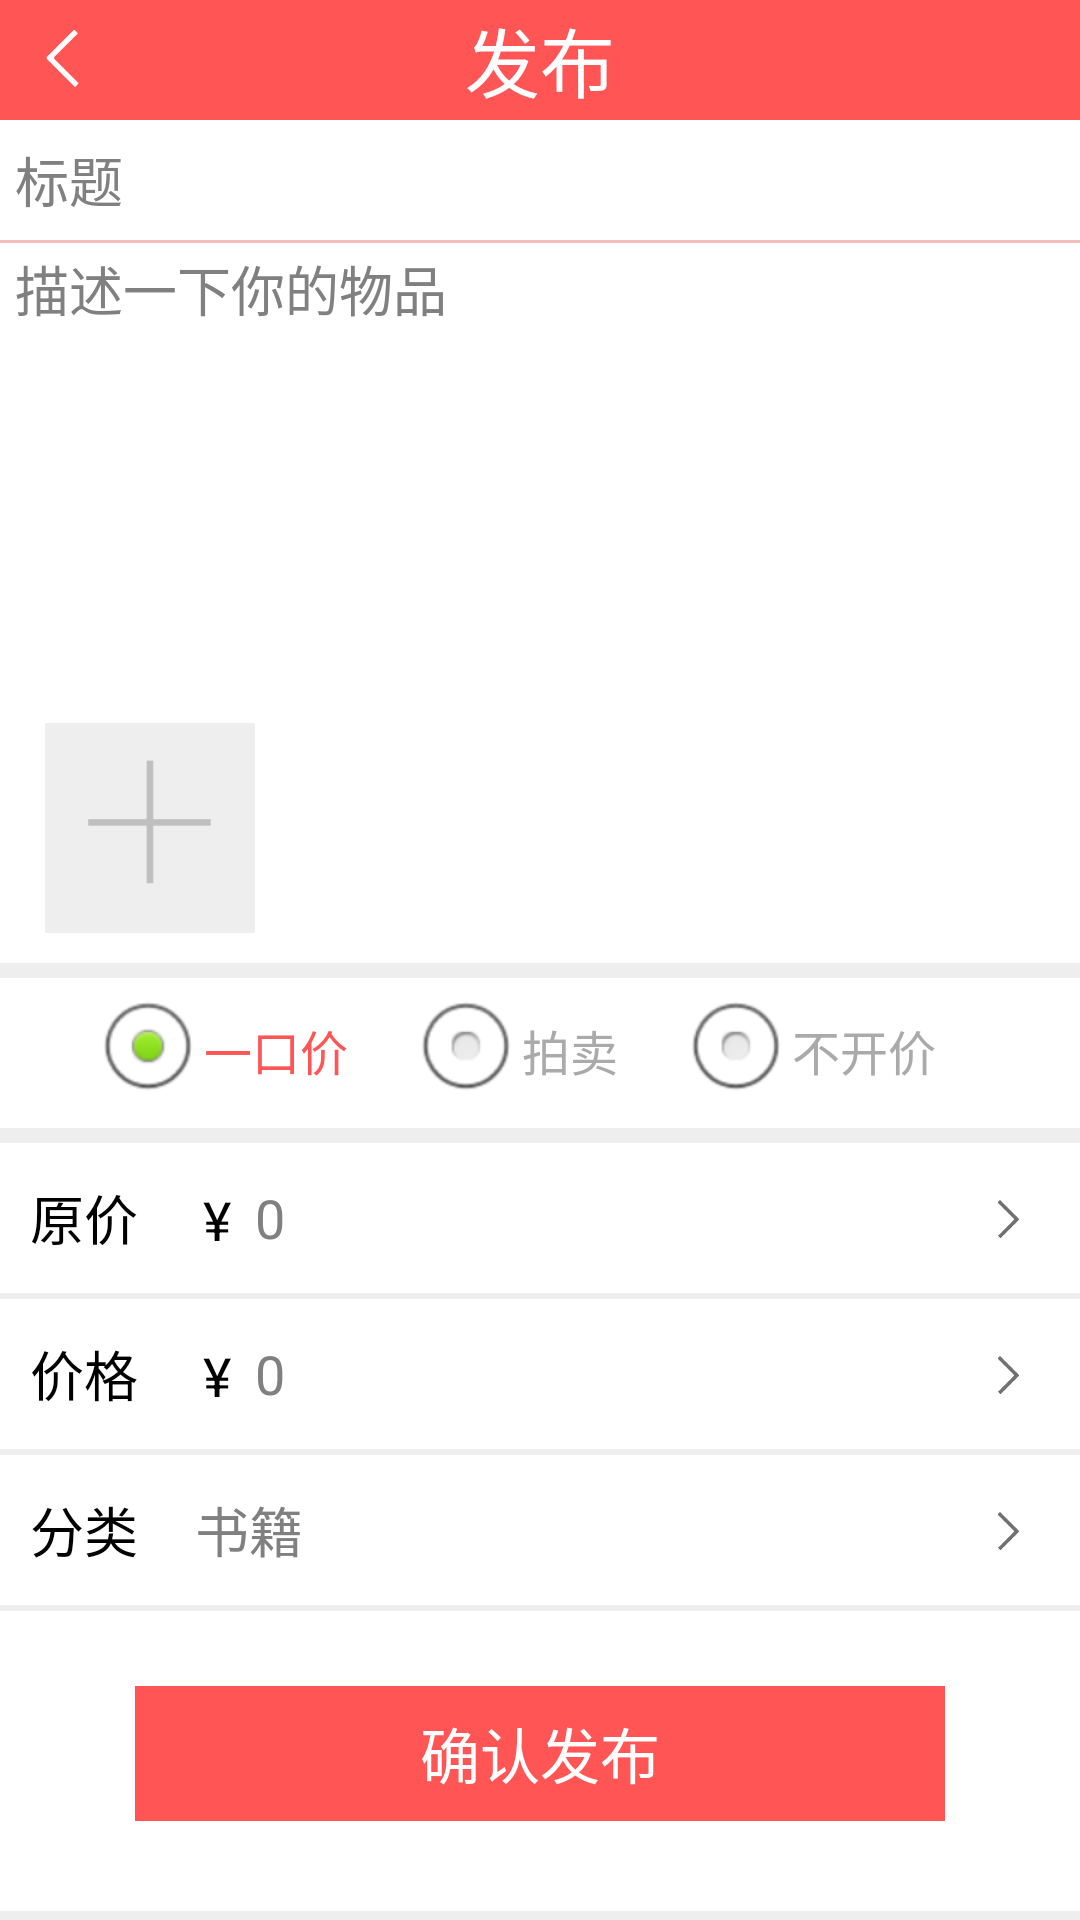

Icons on this 1080px×1920px Android screen, each with its box as (x1, y1, x2, y2):
add: (45, 723, 255, 933)
jiantou: (998, 1200, 1019, 1238), (998, 1356, 1019, 1394), (998, 1512, 1019, 1550)
jiantou left: (46, 30, 79, 87)
